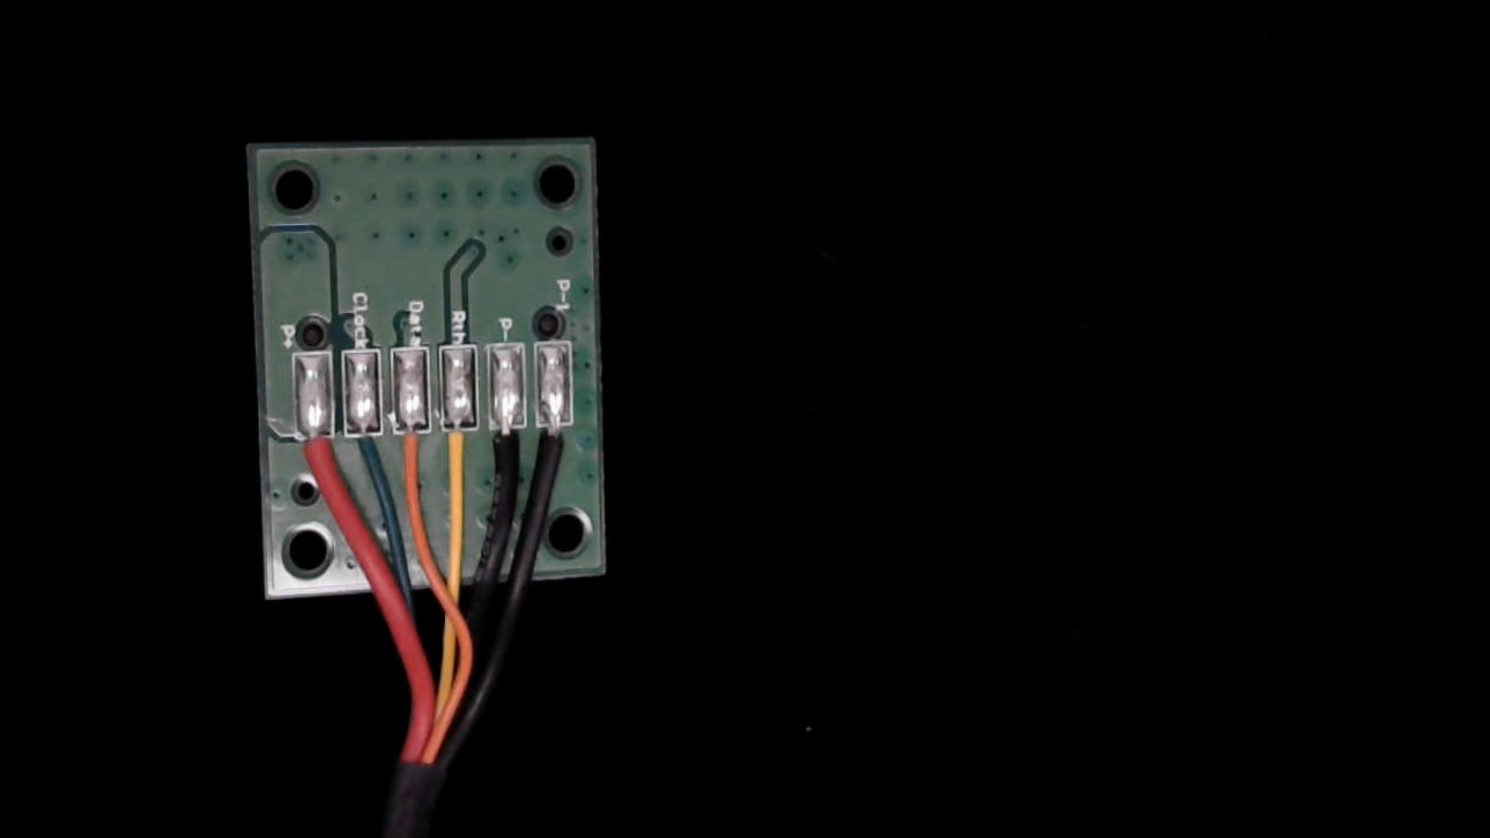Black: (487, 400, 529, 498)
Black1: (538, 397, 578, 488)
Green: (344, 406, 386, 500)
Orange: (392, 404, 432, 501)
Red: (294, 408, 336, 503)
Yellow: (440, 403, 482, 502)
